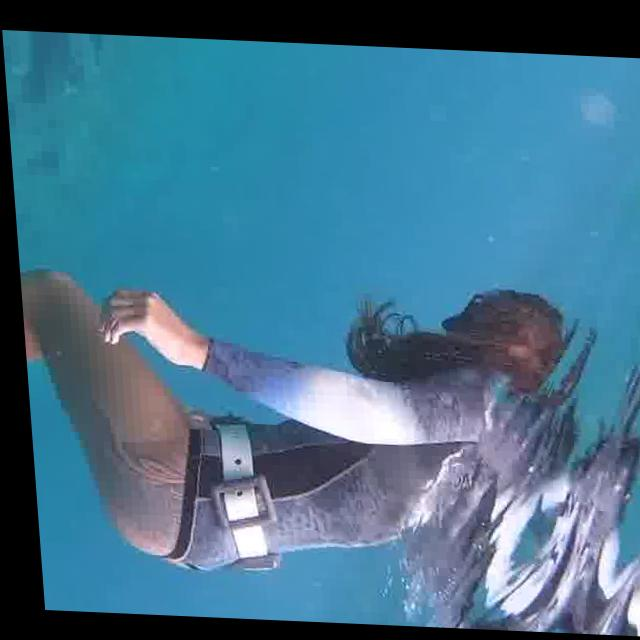human: (11, 188, 583, 608)
